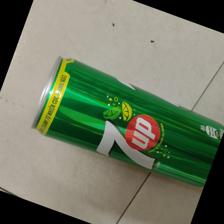7up: (30, 55, 224, 190)
